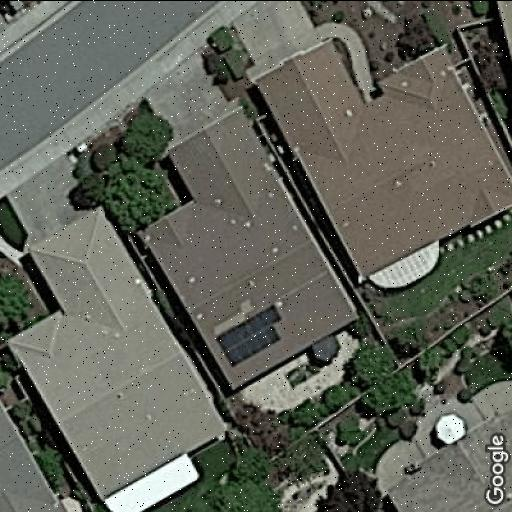solar-panel: (216, 301, 287, 365)
